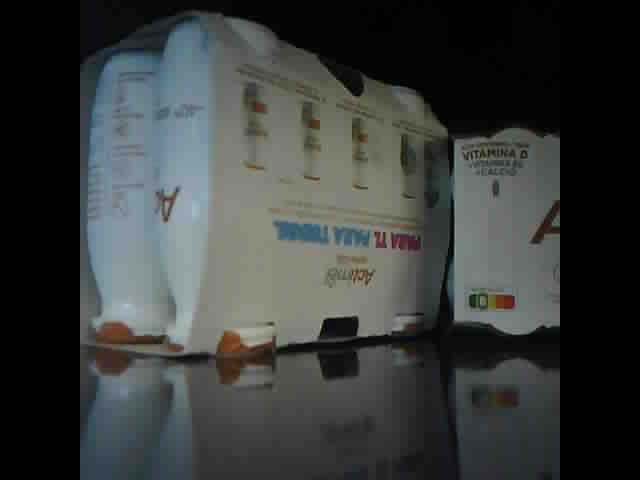actimel: (80, 11, 452, 360), (453, 125, 559, 339)
